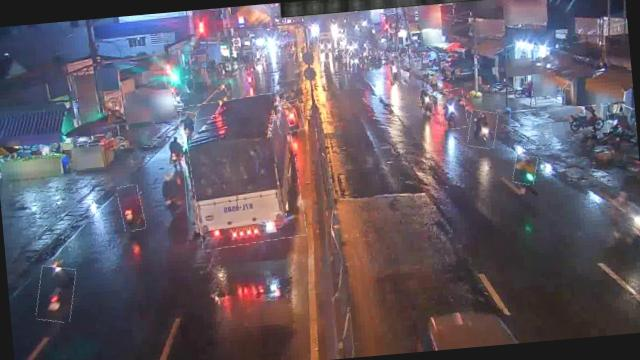Bike: (34, 265, 78, 324), (160, 168, 188, 218), (118, 185, 146, 232), (437, 88, 468, 130), (466, 110, 498, 150), (572, 104, 608, 136), (512, 154, 538, 186), (166, 136, 188, 168), (388, 52, 402, 86), (178, 112, 197, 135), (419, 88, 434, 114)
Car: (274, 100, 305, 133)
Truck: (183, 92, 304, 249)
